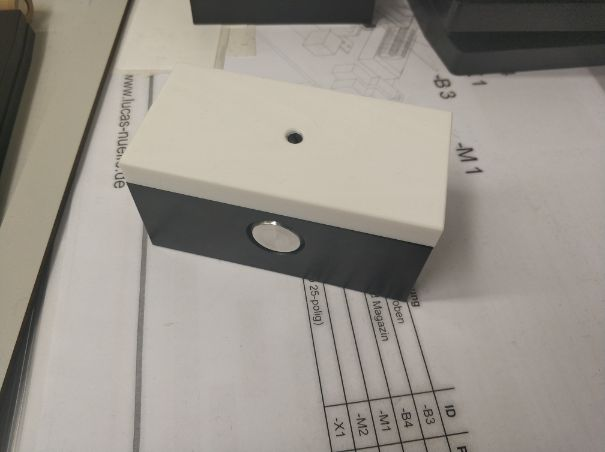white+black+silver: (117, 58, 459, 317)
